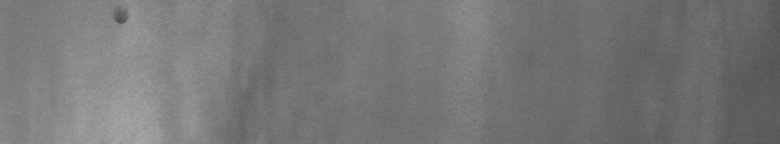fi: (112, 4, 134, 32)
